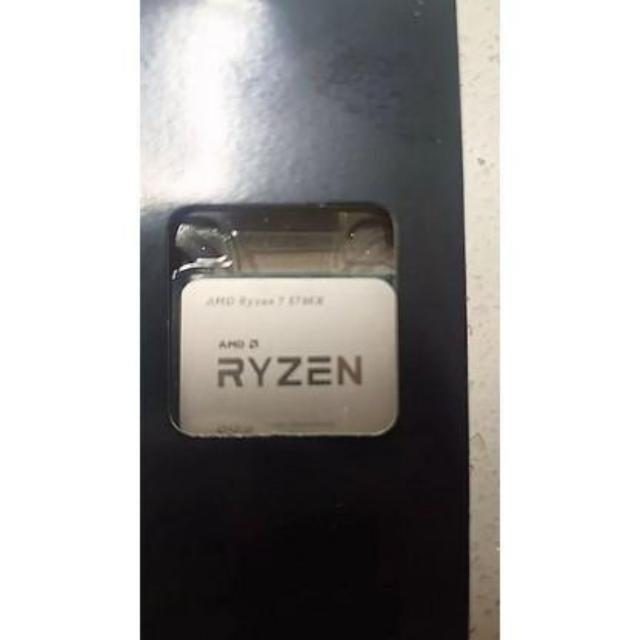CPU: (172, 281, 402, 448)
